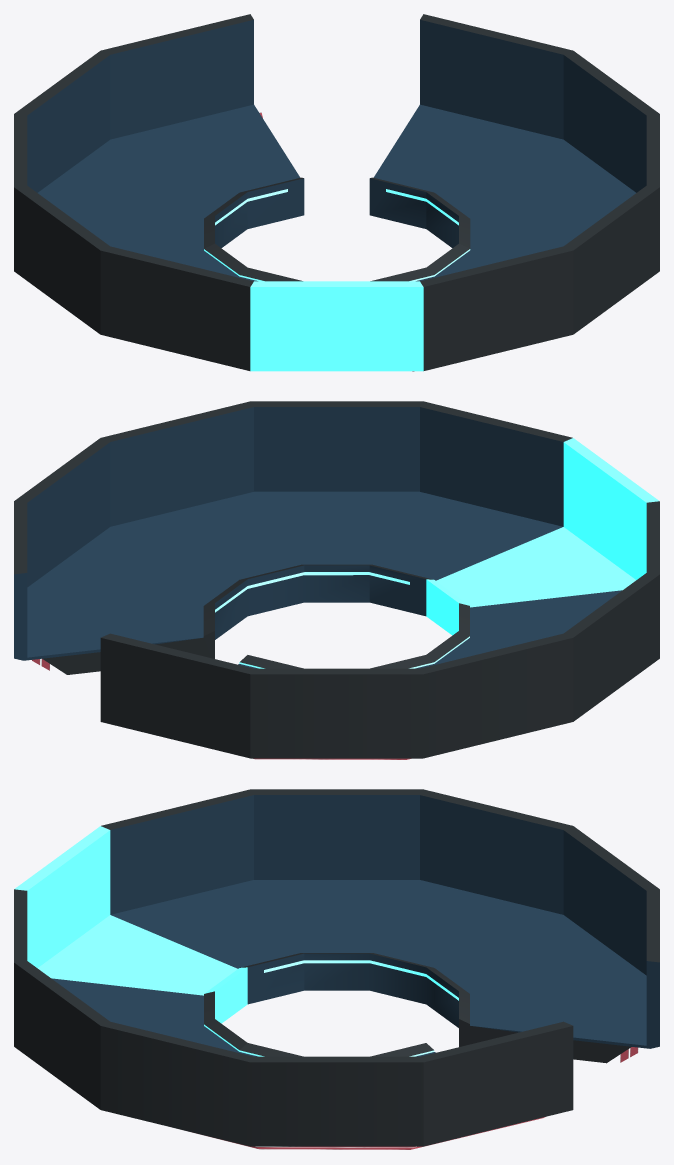
The model's file is Aero_Station_PinkRing_Art.glb.
3 renders of one model, top to bottom at view 1: azimuth 30°, elevation 25°; view 2: azimuth 150°, elevation 25°; view 3: azimuth 270°, elevation 25°, orthographic.
Parts seen in each view (by area): view 1: Aero_Station_PinkRing_Art; view 2: Aero_Station_PinkRing_Art; view 3: Aero_Station_PinkRing_Art.
Boxes of the visible parts, x1,y1,x2,y2 form: Aero_Station_PinkRing_Art: [14, 14, 659, 371]; Aero_Station_PinkRing_Art: [14, 401, 659, 759]; Aero_Station_PinkRing_Art: [14, 789, 659, 1149].
Bounding box in the file's own units: 15.27 × 3.09 × 15.27.
6 materials, 3 textured.
